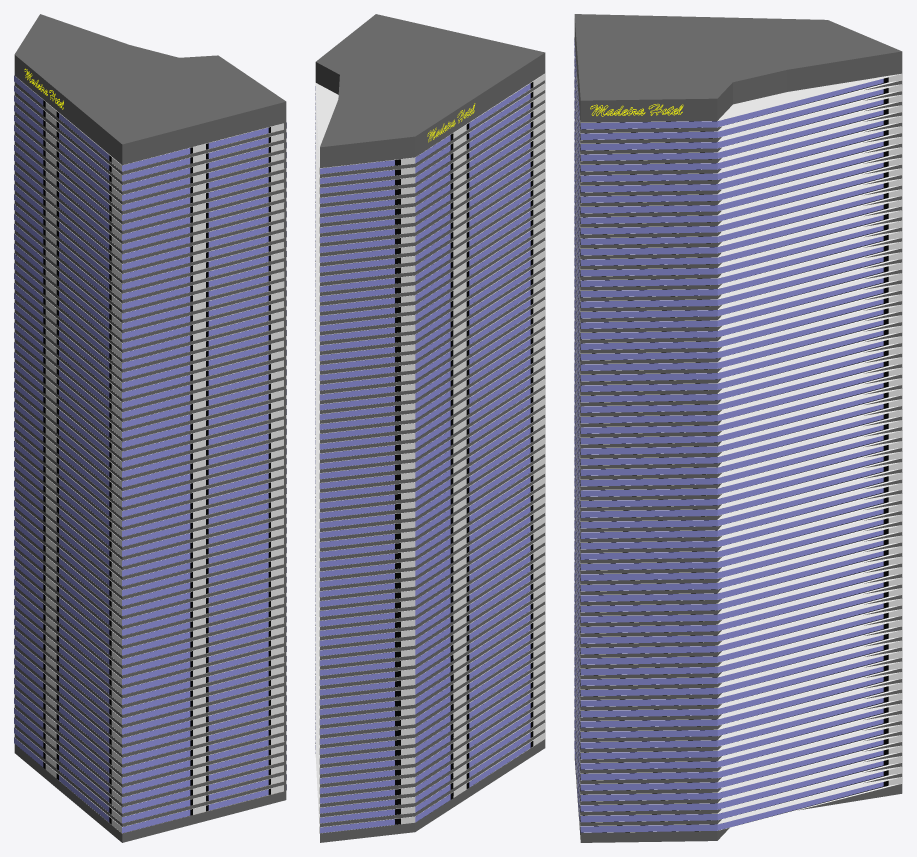
The model's file is MadeiraHotelWestInsbury.fbx.
The picture shows the model from 3 angles, left to right: view 1: azimuth 30°, elevation 25°; view 2: azimuth 150°, elevation 25°; view 3: azimuth 270°, elevation 25°; orthographic projection. The views are drawn at different scales.
Parts seen in each view (by area): view 1: MadeiraHotelWestInsbury, Window.002, Window.001; view 2: Window.001, MadeiraHotelWestInsbury, Window; view 3: Window, MadeiraHotelWestInsbury, Window.002.
Part boxes in pixels (<box>): MadeiraHotelWestInsbury: <box>14,14,286,842</box>; Window.002: <box>122,123,284,833</box>; Window.001: <box>14,75,121,833</box>; Window.001: <box>319,73,545,833</box>; MadeiraHotelWestInsbury: <box>315,14,545,842</box>; Window: <box>315,82,338,833</box>; Window: <box>580,73,902,832</box>; MadeiraHotelWestInsbury: <box>574,14,902,842</box>; Window.002: <box>574,37,580,829</box>.
Size of the model in its own units: 5437 by 21640 by 8676.
